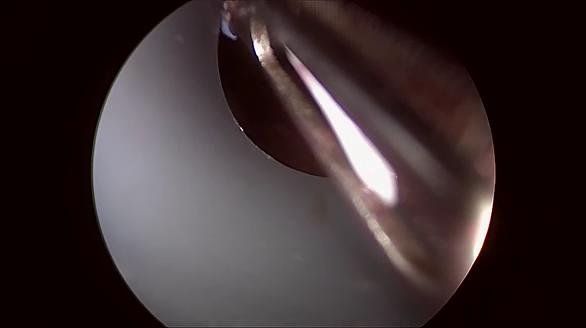Bipolar: (214, 5, 462, 297)
